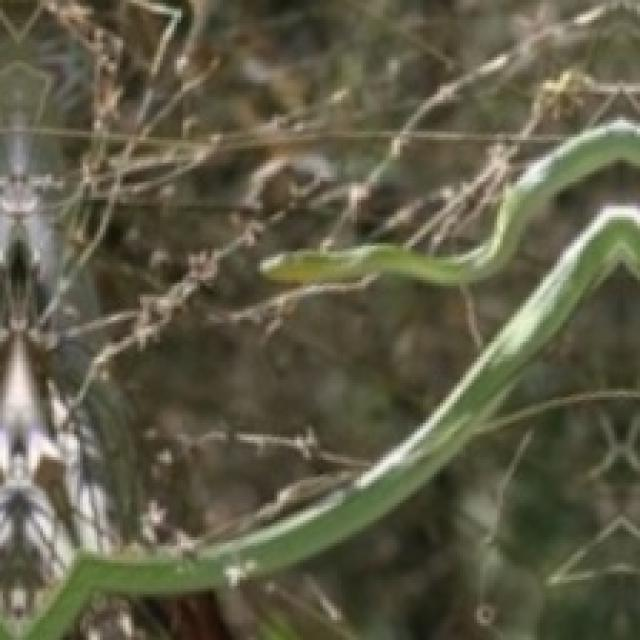red-tailed green ratsnake: (0, 206, 637, 637), (303, 123, 637, 283)
